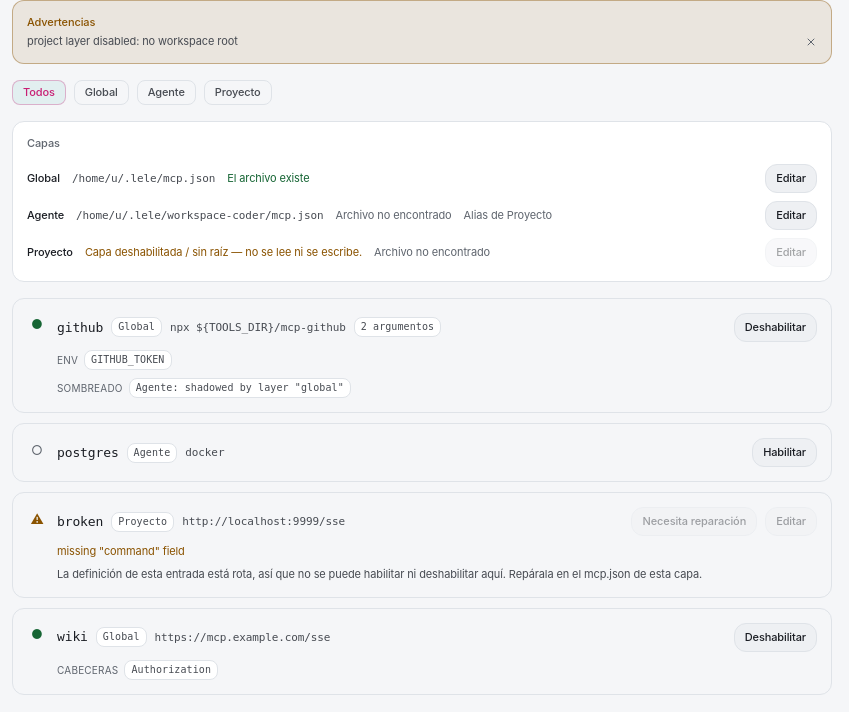
AgentMCPSection — no-change banner (negative) › a toggle answered changed:true renders NO banner; verdict comes from the inventory refetch
Click the button "Deshabilitar" in the row of "2 argumentos" at (775, 327), box [734, 313, 817, 342]
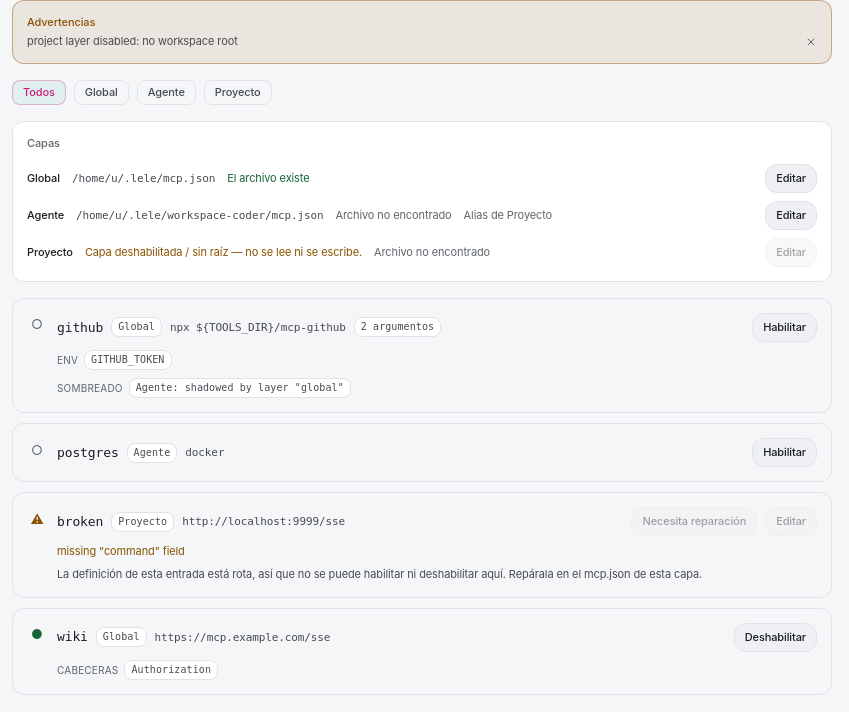
Result: the text "○" in the row of "npx ${TOOLS_DIR}/mcp-github" is shown at [31, 316, 43, 332]
